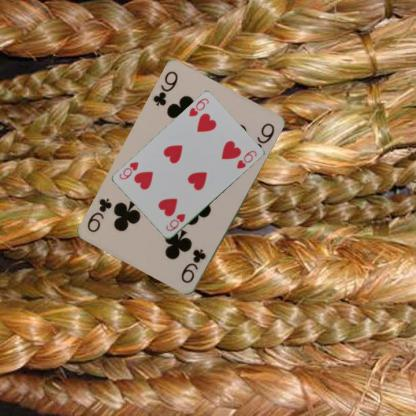6h: (186, 96, 210, 118), (163, 212, 187, 232)
9c: (178, 246, 208, 286), (150, 69, 180, 108)
